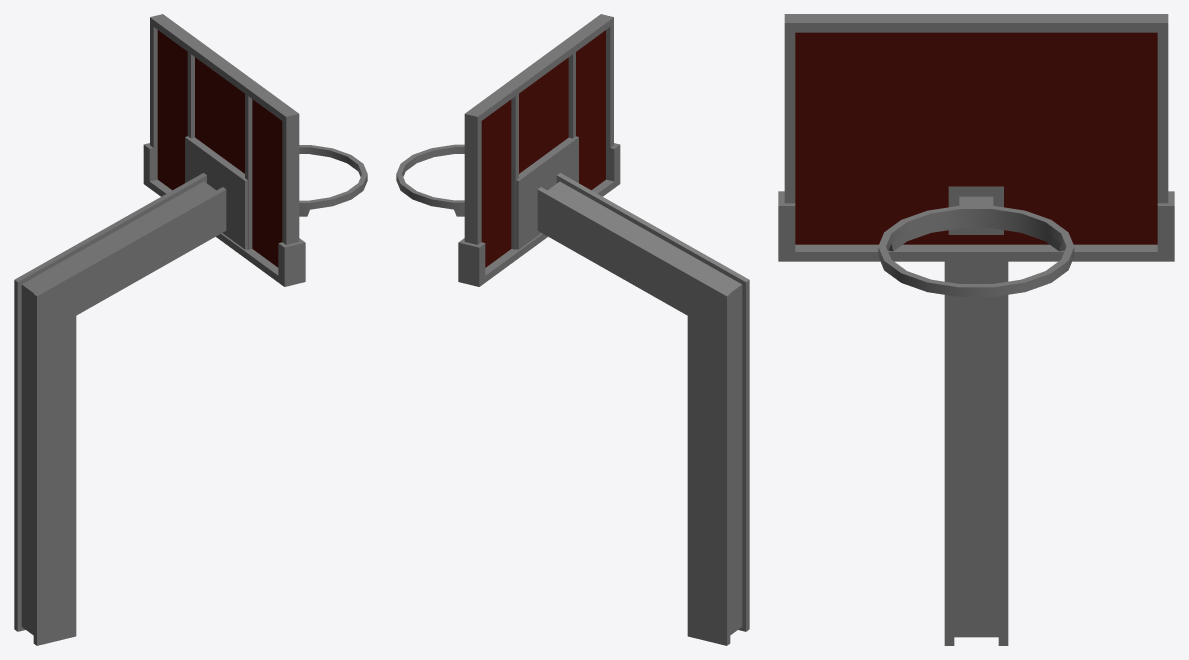
The model's file is Ring.fbx.
The picture shows the model from 3 angles, left to right: view 1: azimuth 30°, elevation 25°; view 2: azimuth 150°, elevation 25°; view 3: azimuth 270°, elevation 25°; orthographic projection. The views are drawn at different scales.
Parts seen in each view (by area): view 1: Pole; view 2: Pole; view 3: Pole.
Part boxes in pixels (box(x1,y1,x2,y2)): Pole: box(14, 14, 367, 645); Pole: box(396, 14, 749, 645); Pole: box(778, 14, 1174, 645).
Size of the model in its own units: 253 by 381 by 186.
